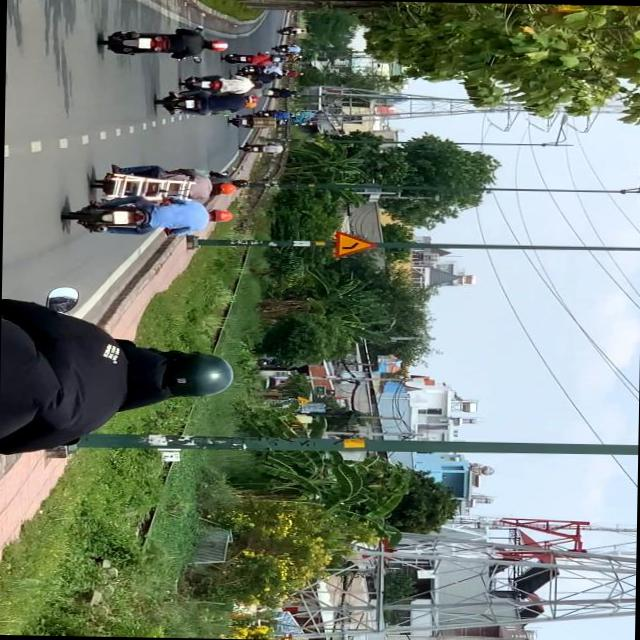W-201a: (334, 230, 378, 258)
